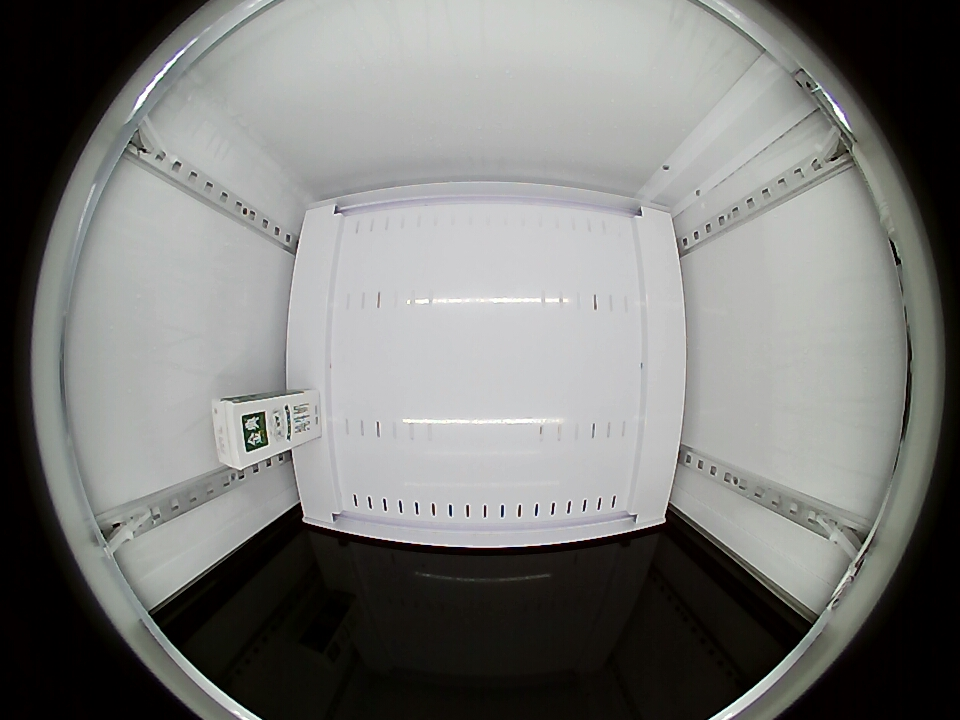jindian: (212, 394, 267, 470)
